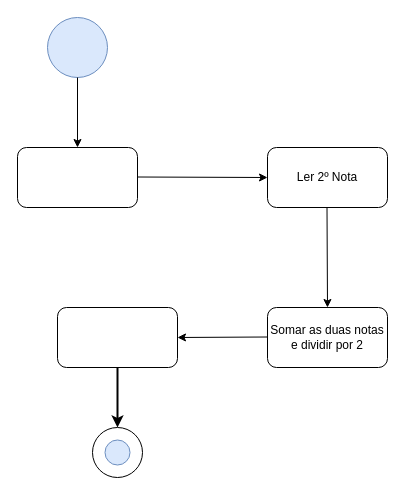
Image size: 405x495. Some labels were removed from this diagram. The shapes that lost their labels are listed below. From the top down, each one's centre as x and y in pixels, then its label:
the point at 77,177: Ler 1º Nota
the point at 117,337: Exibir "Média"
